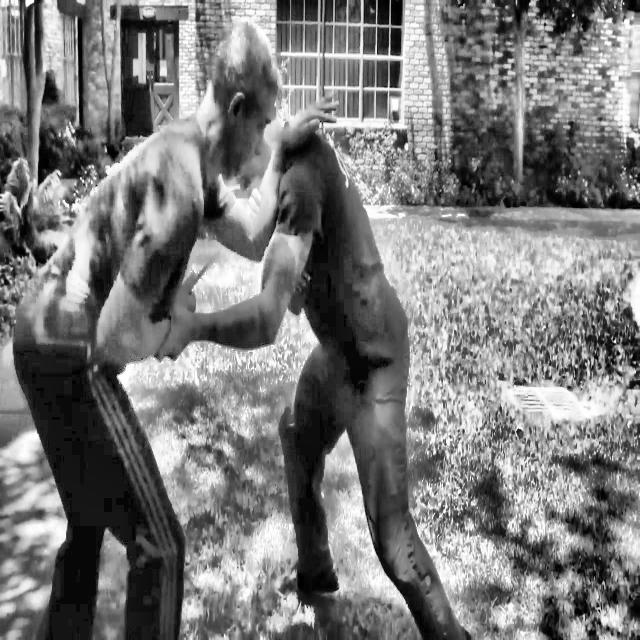robbery: (1, 0, 495, 640)
